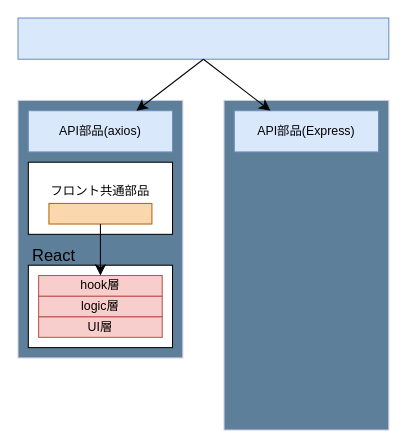
Some shapes in this 407 by 448 pixel diagram are drawn without their labels. Each missing label, with the centre of its shape:
"apiオブジェクト" belongs at (x=100, y=213).
"OpenAPI Generator" belongs at (x=203, y=38).
